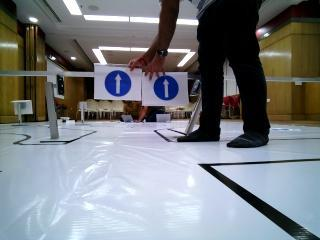straight: (97, 64, 139, 98), (145, 75, 184, 105)
